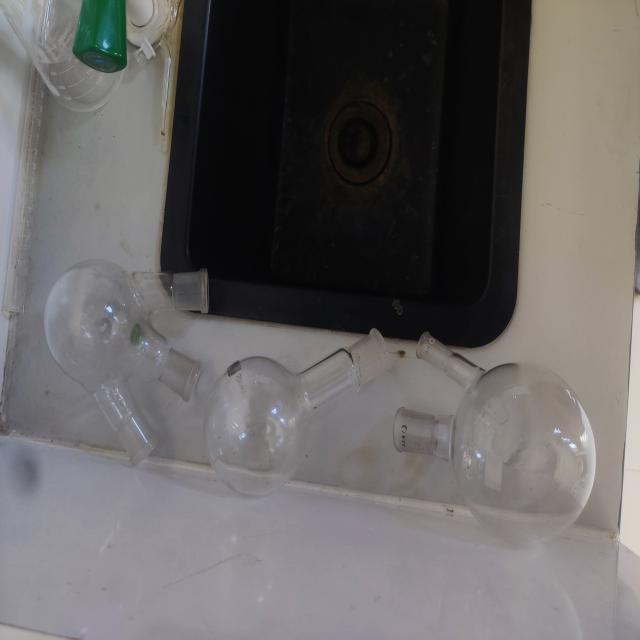Round_Bottom_Flask_Borosilicate_Glass_1_Neck: (192, 284, 400, 543)
Round_Bottom_Flask_Borosilicate_Glass_2_Neck: (373, 291, 617, 589)
Round_Bottom_Flask_Borosilicate_Glass_3_Neck: (34, 222, 217, 490)
